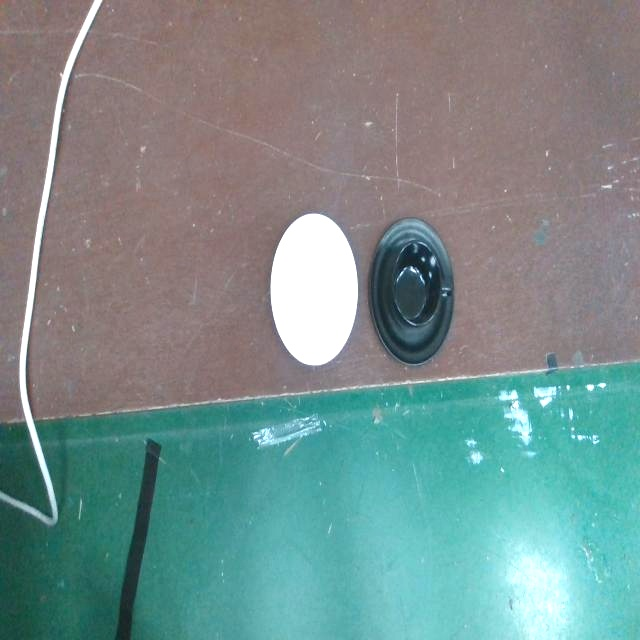black: (366, 212, 457, 369)
white: (267, 209, 361, 374)
